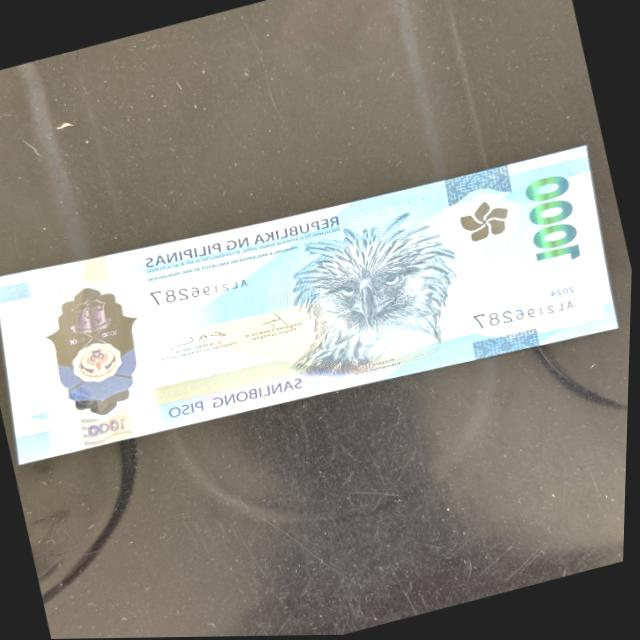clear_window: (33, 284, 164, 426)
eagle: (263, 198, 485, 393)
sampaguita: (458, 199, 514, 254)
